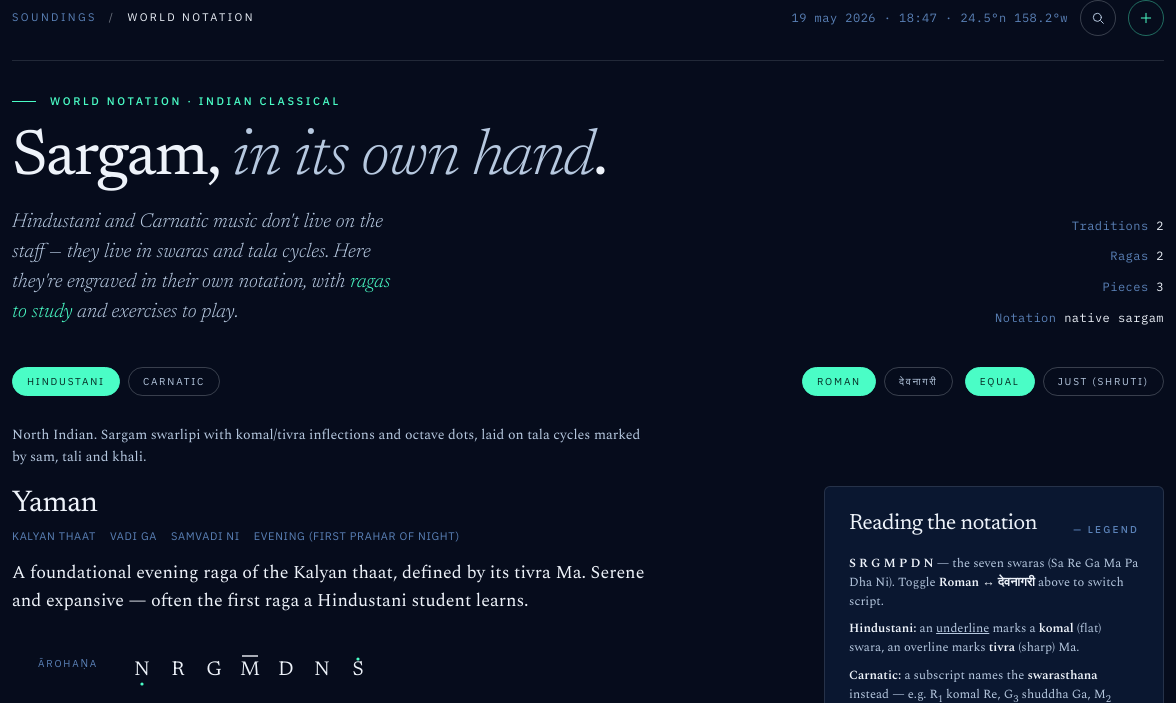
Scenario: WorldNotationView › switches tradition to Carnatic and shows the sarali varisai
Click the button "Carnatic" at (174, 382), box [128,367,220,396]
(page scrolled)
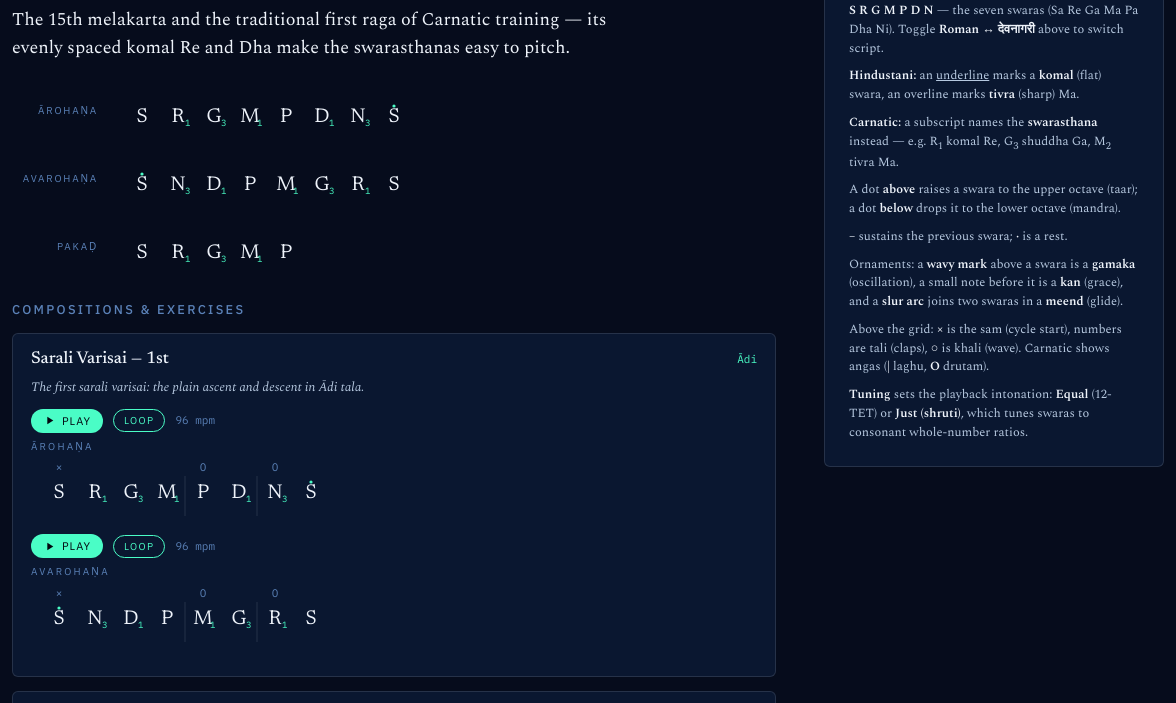
Expected: the heading "Sarali Varisai — 1st" is shown, [31,350,169,371]
